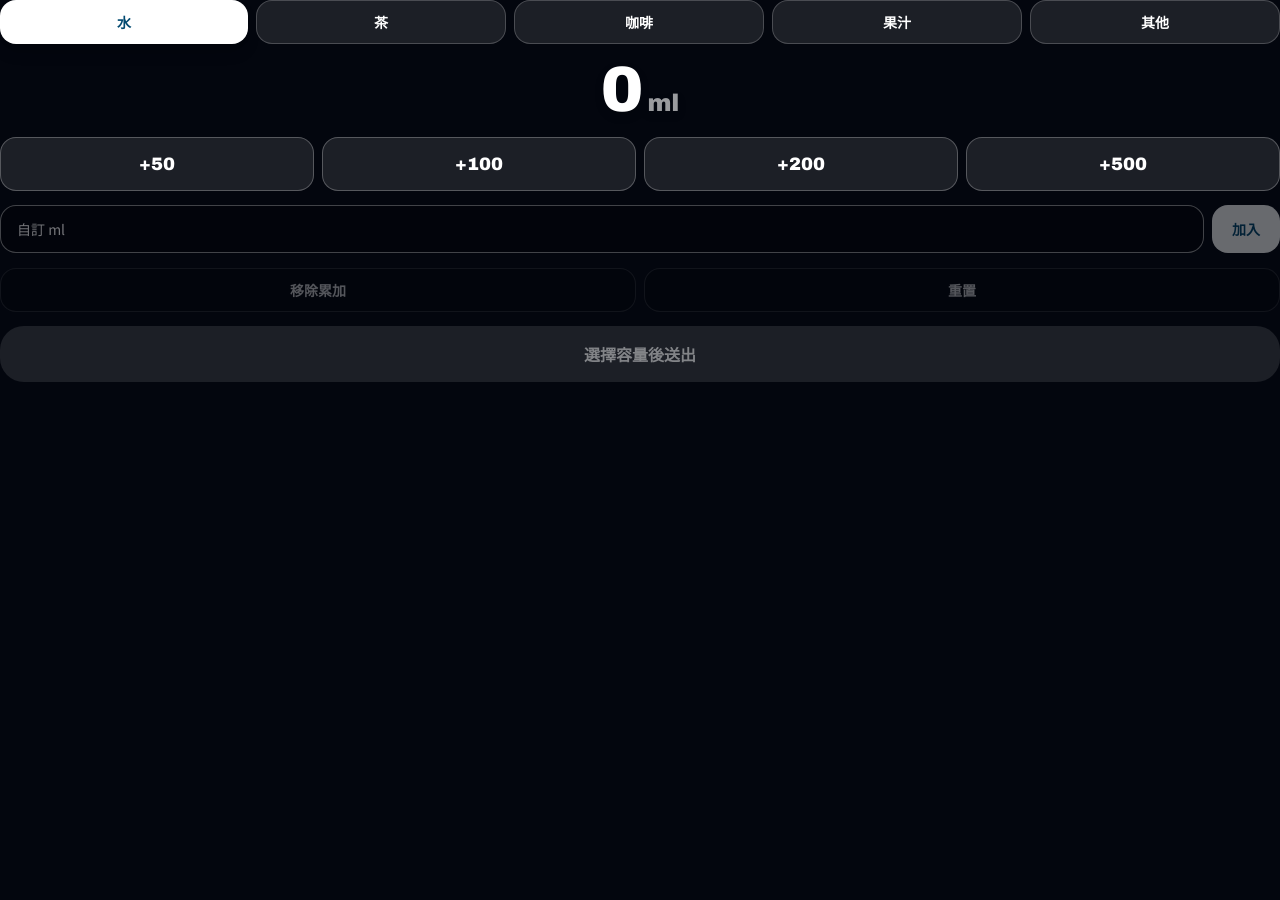
Test: DrinkLogger — overflow dialog (>2000ml) › option 1 (awesome) closes dialog and keeps total
Click the button "+500".
click(1123, 164)  # box [966,137,1279,191]
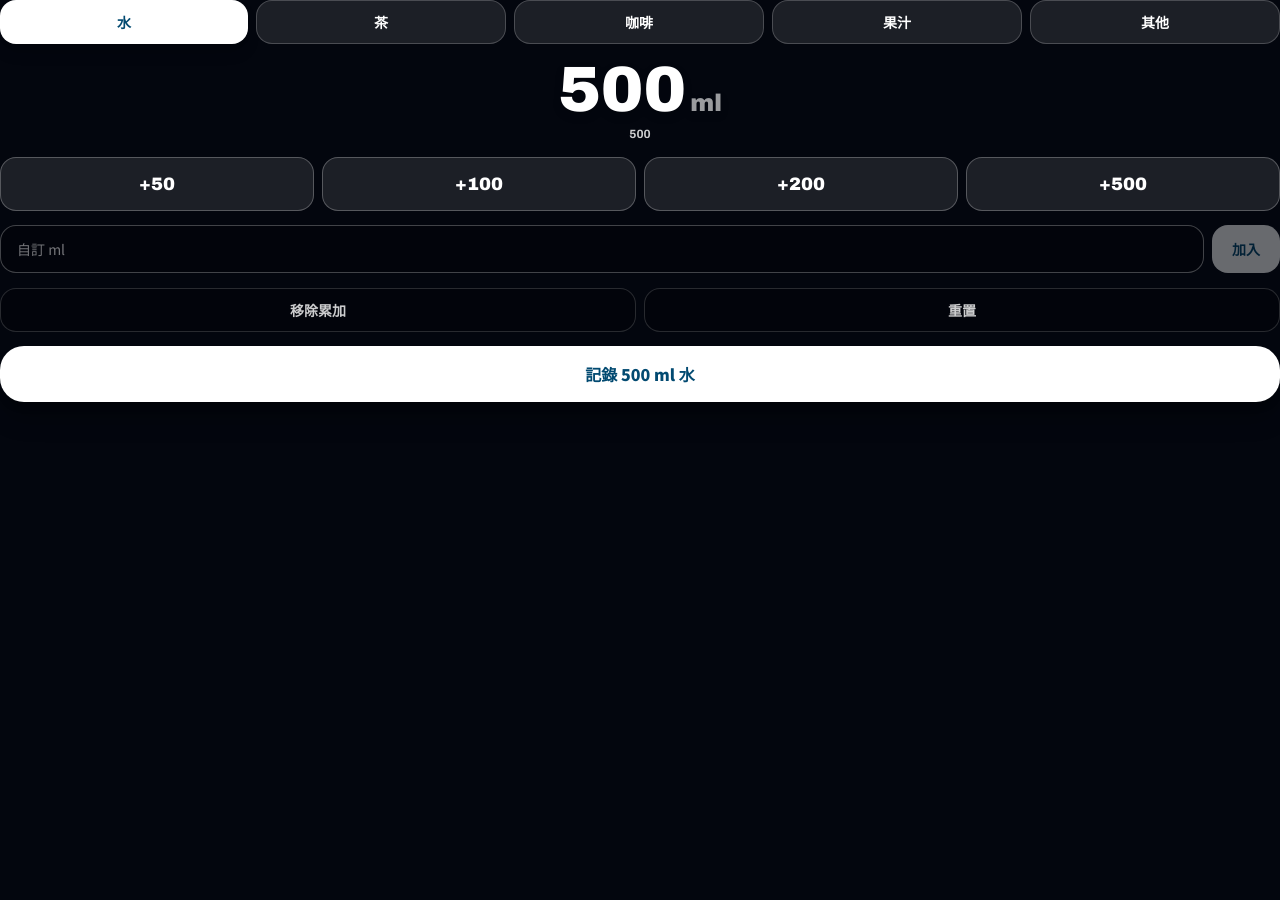
Click the button "+500".
click(1123, 184)  # box [966,157,1279,211]
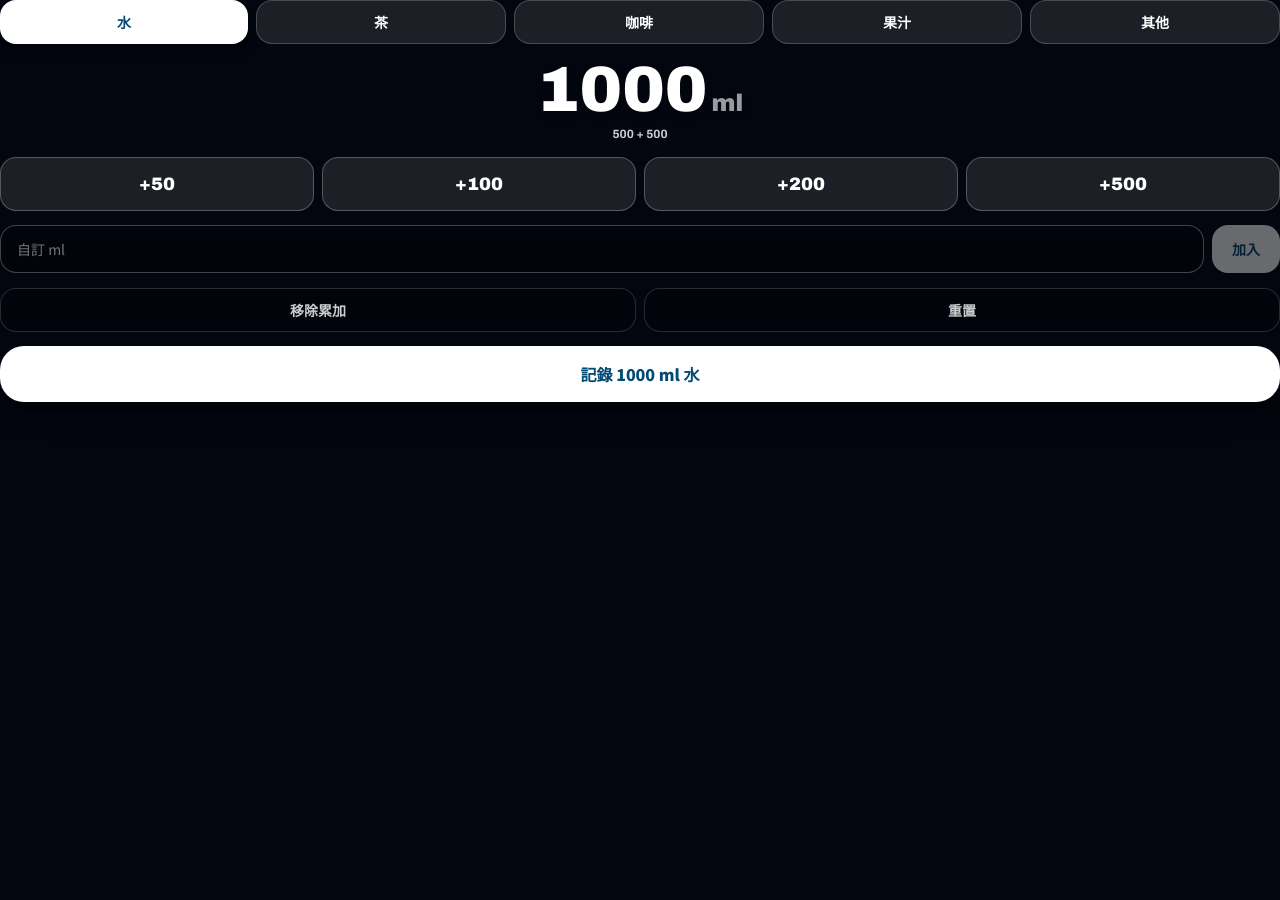
Click the button "+500".
click(1123, 184)  # box [966,157,1279,211]
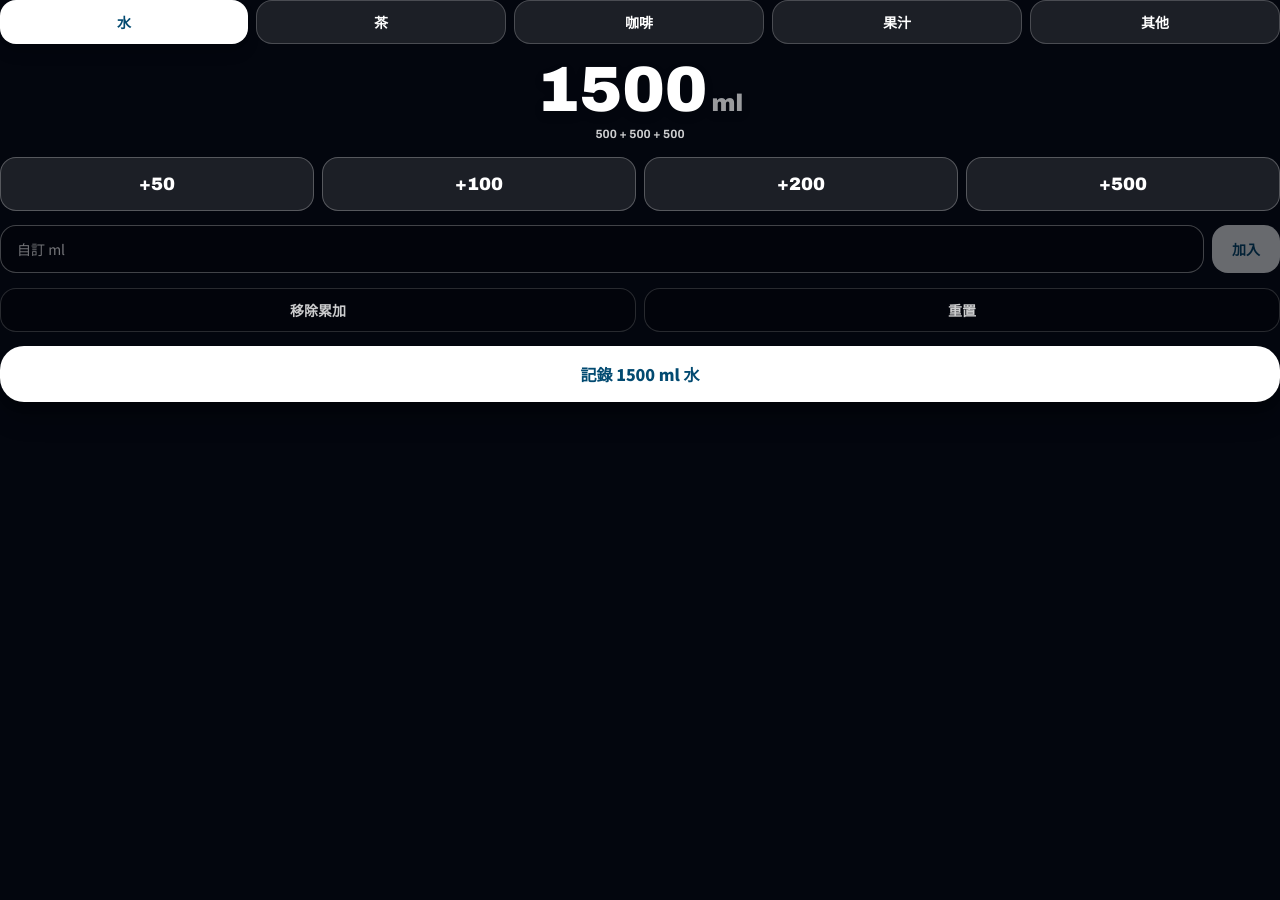
Click the button "+500".
click(1123, 184)  # box [966,157,1279,211]
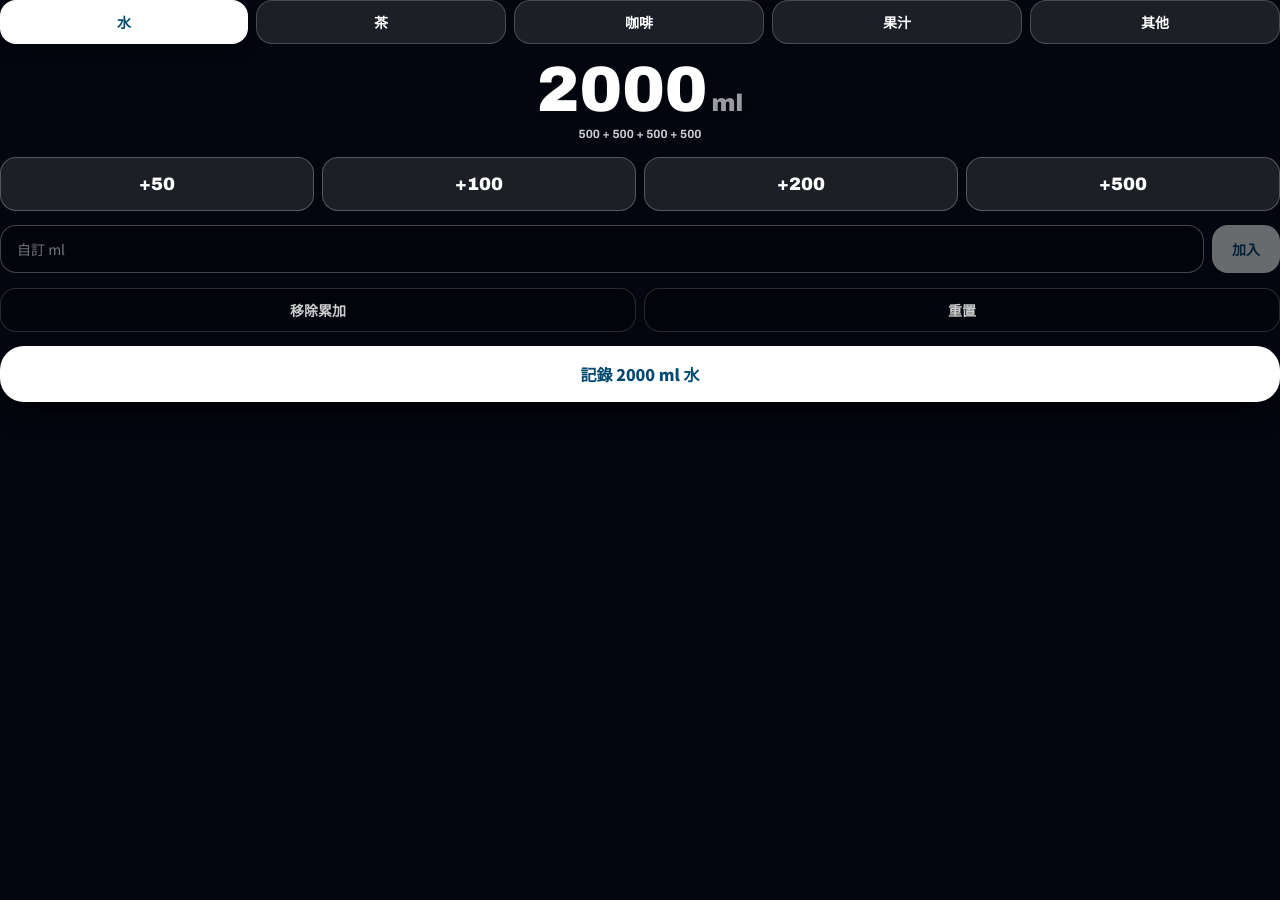
Click the button "+500".
click(1123, 184)  # box [966,157,1279,211]
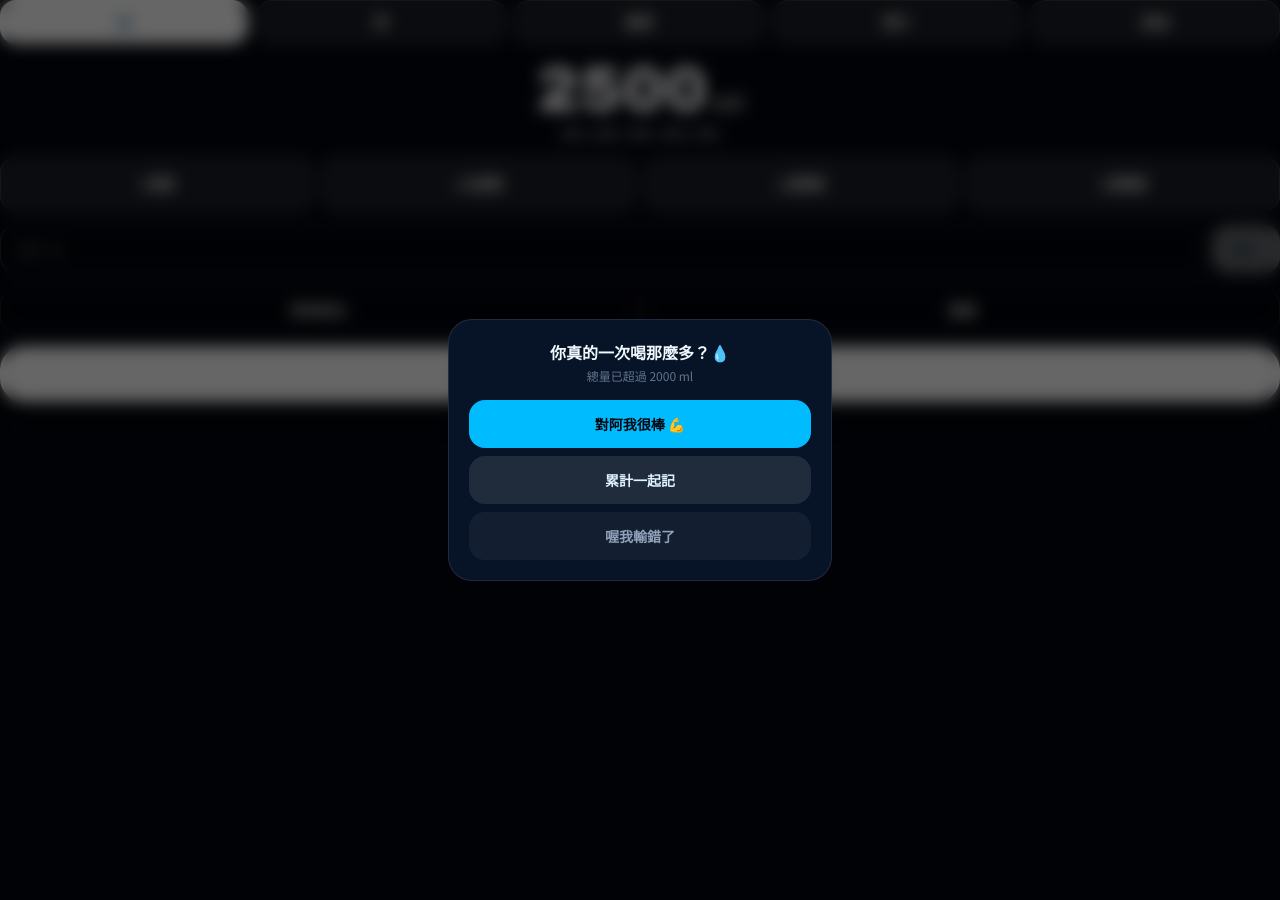
Click the button "對阿我很棒 💪".
click(640, 424)  # box [469,400,811,448]
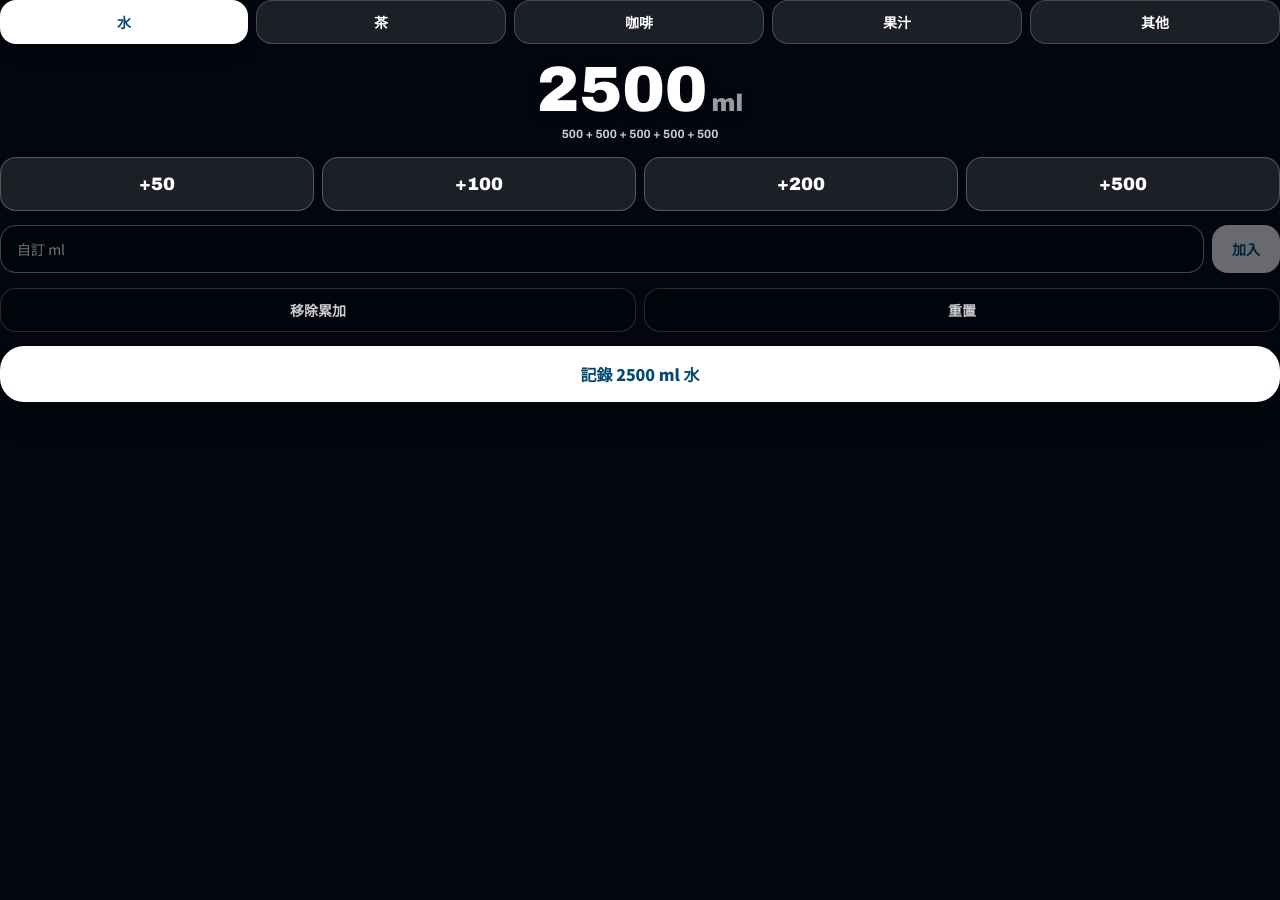
Check: the element with test id "running-total" shows "2500", box [537,55,708,124]
Check: the heading "你真的一次喝那麼多？💧" is gone
